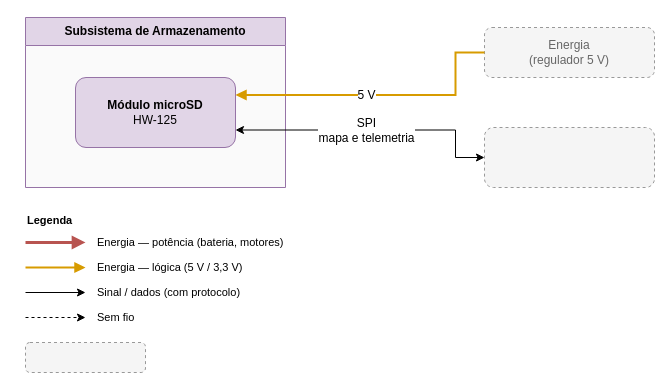
The diagram is 672 pixels wide and 390 high, and some of its shapes have lost their labels. The centre of each missing label's shape, as x and y in pixels:
"Outro subsistema" goes at point 85,357.
"Processamento (ESP32)" goes at point 569,157.
